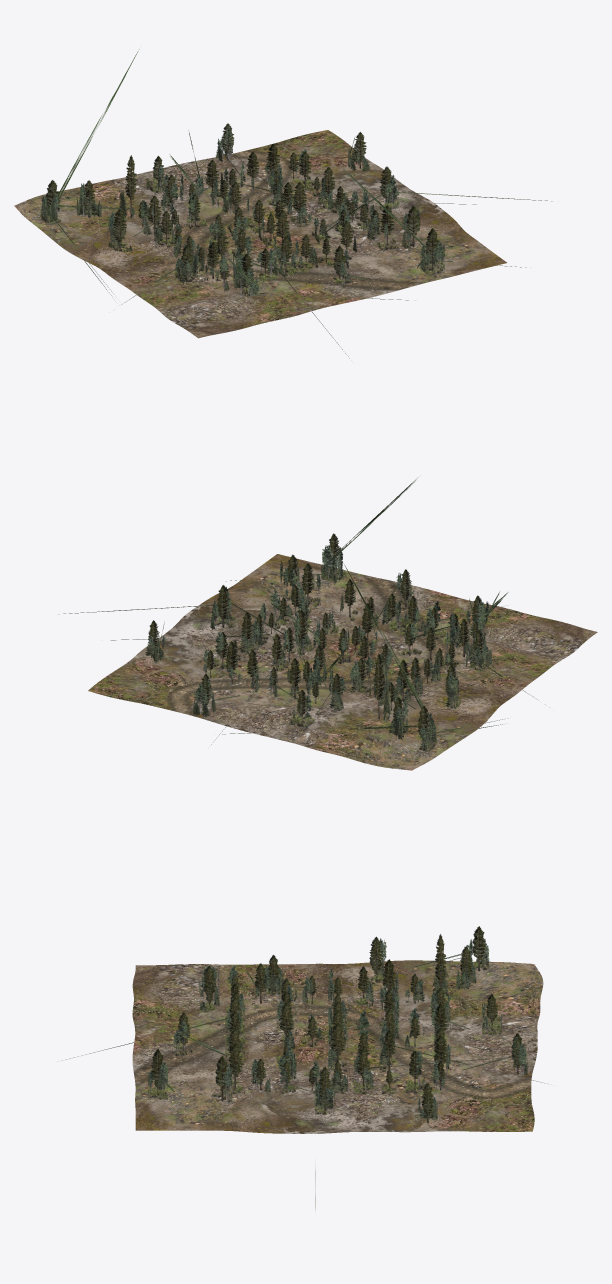
The model's file is stage.glb.
The picture shows the model from 3 angles, top to bottom: view 1: azimuth 30°, elevation 25°; view 2: azimuth 150°, elevation 25°; view 3: azimuth 270°, elevation 25°; orthographic projection. The views are drawn at different scales.
Parts seen in each view (by area): view 1: ForestStage_Material.003, ForestStage_Material, ForestStage_Material.004; view 2: ForestStage_Material.003, ForestStage_Material, ForestStage_Material.004; view 3: ForestStage_Material.003, ForestStage_Material, ForestStage_Material.004.
Boxes of the visible parts, x1,y1,x2,y2 form: ForestStage_Material.003: (14,130,506,338); ForestStage_Material: (40,49,552,358); ForestStage_Material.004: (52,138,433,291); ForestStage_Material.003: (88,554,597,770); ForestStage_Material: (63,478,538,752); ForestStage_Material.004: (152,537,479,747); ForestStage_Material.003: (132,960,543,1133); ForestStage_Material: (62,926,548,1209); ForestStage_Material.004: (157,937,518,1123).
Bounding box in the file's own units: 51.01 × 23.55 × 45.48.
Materials: 3 (3 with a texture image).
